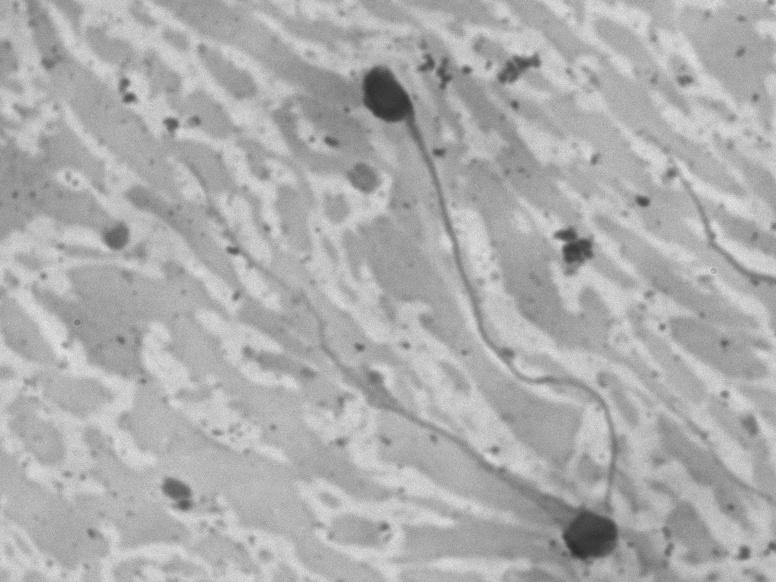Abnormal: (157, 129, 629, 573), (298, 39, 645, 349)
